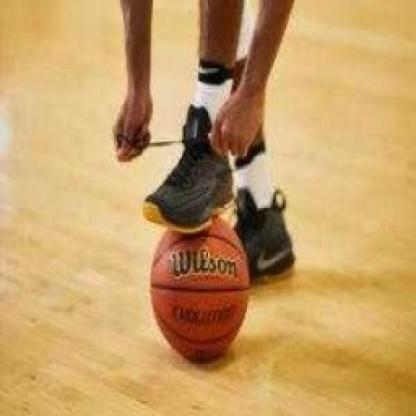basketball: (142, 207, 262, 372)
